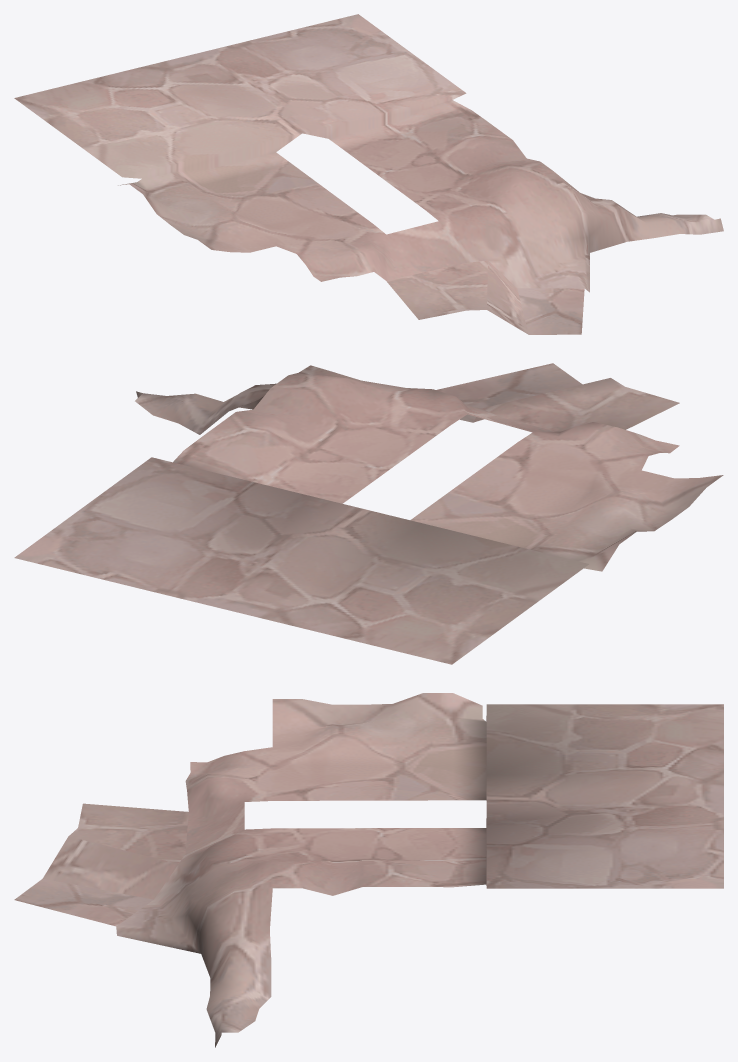
File: wenquan_db_03.FBX
The picture shows the model from 3 angles, top to bottom: view 1: azimuth 30°, elevation 25°; view 2: azimuth 150°, elevation 25°; view 3: azimuth 270°, elevation 25°; orthographic projection. The views are drawn at different scales.
Visible parts, largest first — view 1: wenquan_db_03; view 2: wenquan_db_03; view 3: wenquan_db_03.
Boxes of the visible parts, x1,y1,x2,y2 form: wenquan_db_03: (14, 14, 723, 334); wenquan_db_03: (14, 363, 723, 664); wenquan_db_03: (14, 693, 723, 1047).
Size of the model in its own units: 5123 by 869 by 5906.
